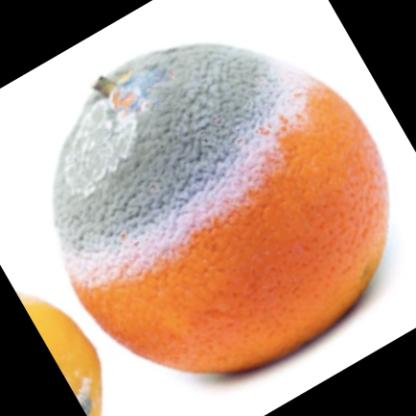rotten: (55, 45, 390, 372)
